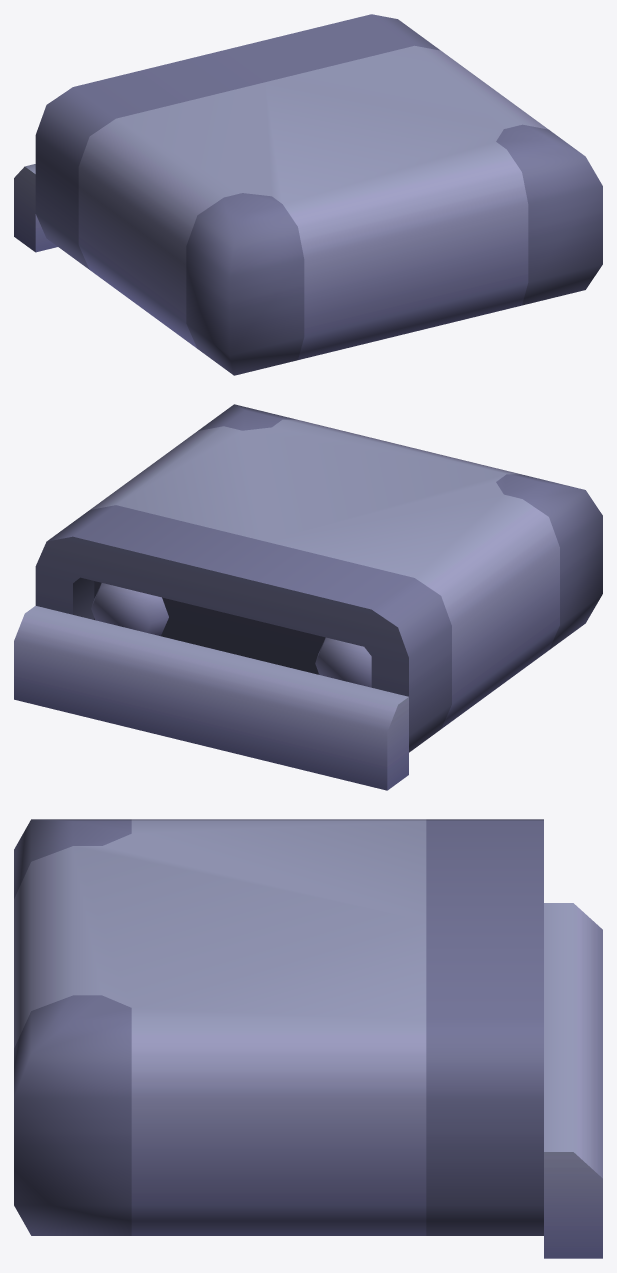
File: kenney-conveyor-conveyor-stripe-sides-junction-t.glb
3 renders of one model, top to bottom at view 1: azimuth 30°, elevation 25°; view 2: azimuth 150°, elevation 25°; view 3: azimuth 270°, elevation 25°, orthographic. The views are drawn at different scales.
Visible parts, largest first — view 1: conveyor-stripe-sides-junction-t; view 2: conveyor-stripe-sides-junction-t; view 3: conveyor-stripe-sides-junction-t.
Boxes of the visible parts, <box> form: conveyor-stripe-sides-junction-t: <box>14,14,602,375</box>; conveyor-stripe-sides-junction-t: <box>14,404,602,790</box>; conveyor-stripe-sides-junction-t: <box>14,819,602,1258</box>.
Size of the model in its own units: 1 by 0.3999 by 1.
Materials: 1 (1 with a texture image).
